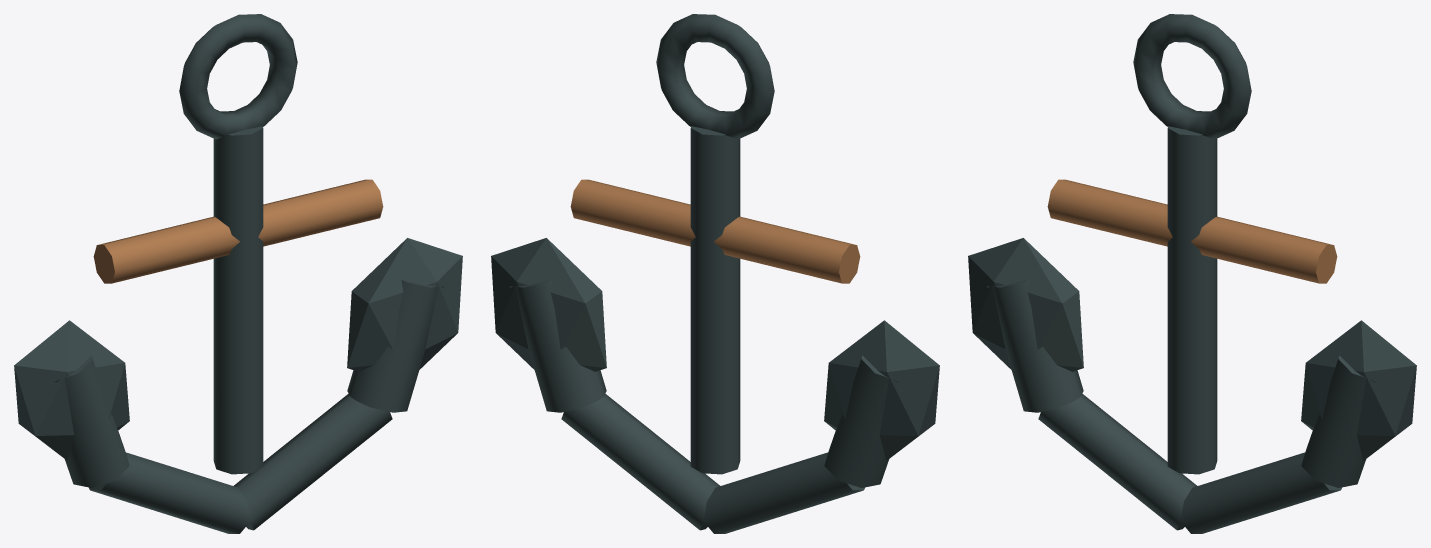
The model's file is iron-anchor.glb.
3 renders of one model, left to right at view 1: azimuth 30°, elevation 25°; view 2: azimuth 150°, elevation 25°; view 3: azimuth 330°, elevation 25°, orthographic.
Visible parts, largest first — view 1: shank, stock, tip-1, tip--1, shackle, arm-1, arm--1, fluke-1, fluke--1; view 2: shank, stock, tip-1, tip--1, shackle, arm-1, arm--1, fluke-1, fluke--1; view 3: shank, stock, tip--1, tip-1, shackle, arm--1, arm-1, fluke--1, fluke-1.
Boxes of the visible parts, x1,y1,x2,y2 form: shank: (213,126,263,474); stock: (93,179,383,283); tip-1: (347,238,462,371); tip--1: (14,320,129,460); shackle: (179,14,297,139); arm-1: (234,394,392,530); arm--1: (88,452,250,533); fluke-1: (347,279,443,412); fluke--1: (55,355,129,487); shank: (690,126,740,474); stock: (570,179,860,283); tip-1: (491,238,606,371); tip--1: (824,320,939,460); shackle: (656,14,774,139); arm-1: (561,394,719,530); arm--1: (703,452,865,533); fluke-1: (510,279,606,412); fluke--1: (824,355,898,487); shank: (1167,126,1217,474); stock: (1047,179,1337,283); tip--1: (968,238,1083,371); tip-1: (1301,320,1416,460); shackle: (1133,14,1251,139); arm--1: (1038,394,1196,530); arm-1: (1180,452,1342,533); fluke--1: (987,279,1083,412); fluke-1: (1301,355,1375,487).
Bounding box in the file's own units: 0.9705 × 1.07 × 0.12.
